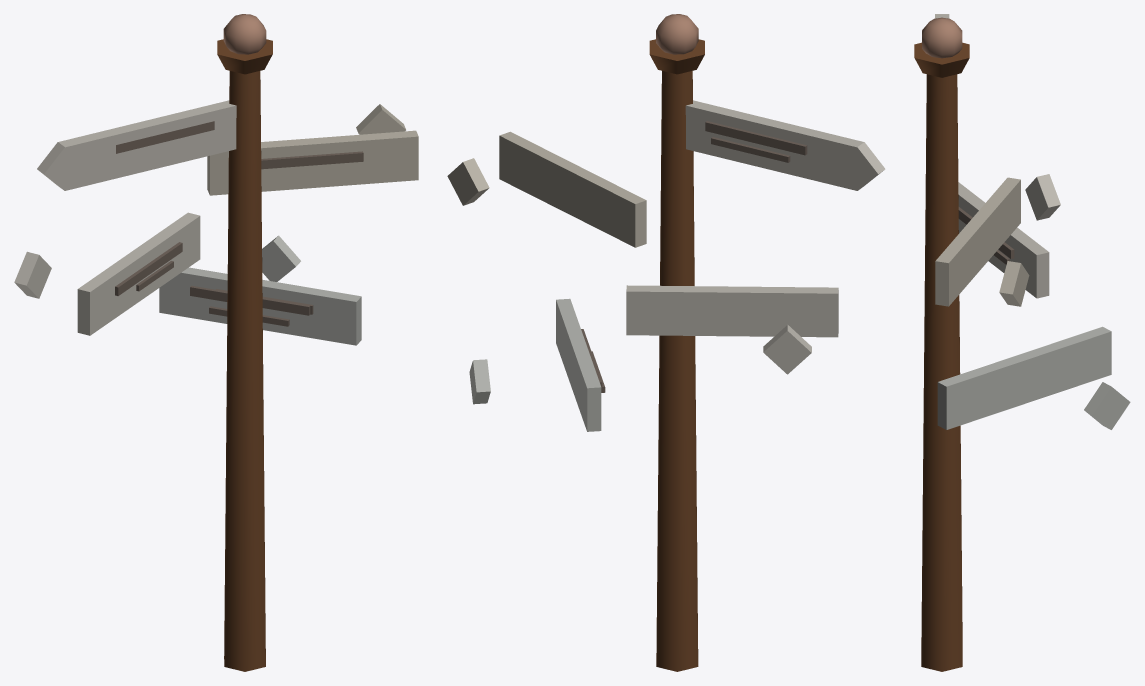
Rendered from signpost.glb.
The picture shows the model from 3 angles, left to right: view 1: azimuth 30°, elevation 25°; view 2: azimuth 150°, elevation 25°; view 3: azimuth 270°, elevation 25°; orthographic projection.
Parts seen in each view (by area): view 1: signpost; view 2: signpost; view 3: signpost.
Boxes of the visible parts, x1,y1,x2,y2 form: signpost: [14, 14, 418, 671]; signpost: [447, 14, 885, 671]; signpost: [914, 14, 1130, 671].
Size of the model in its own units: 1.43 by 2.22 by 0.6768.
